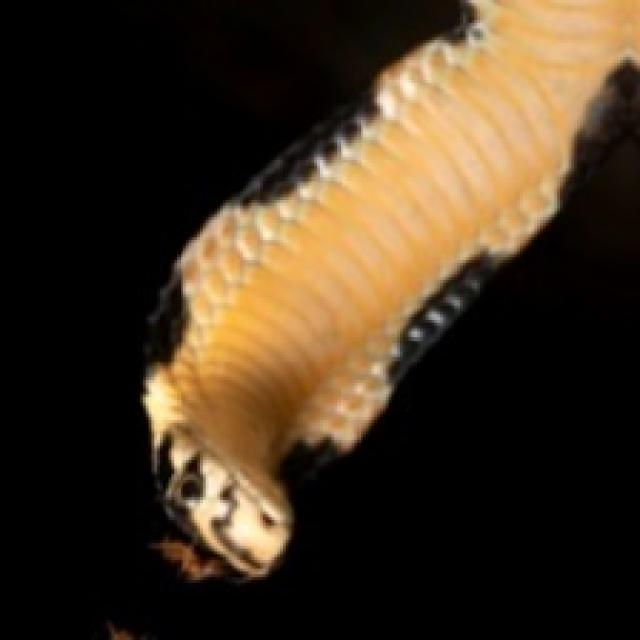king cobra: (143, 0, 637, 574)
